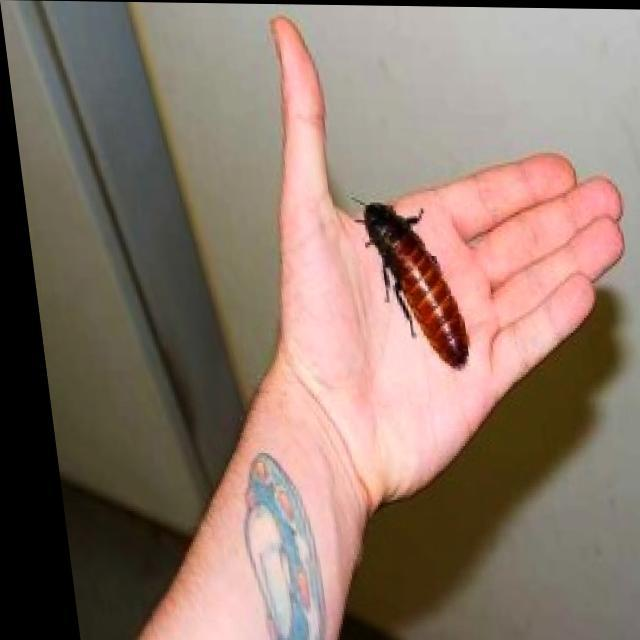cockroach: (346, 192, 474, 372)
